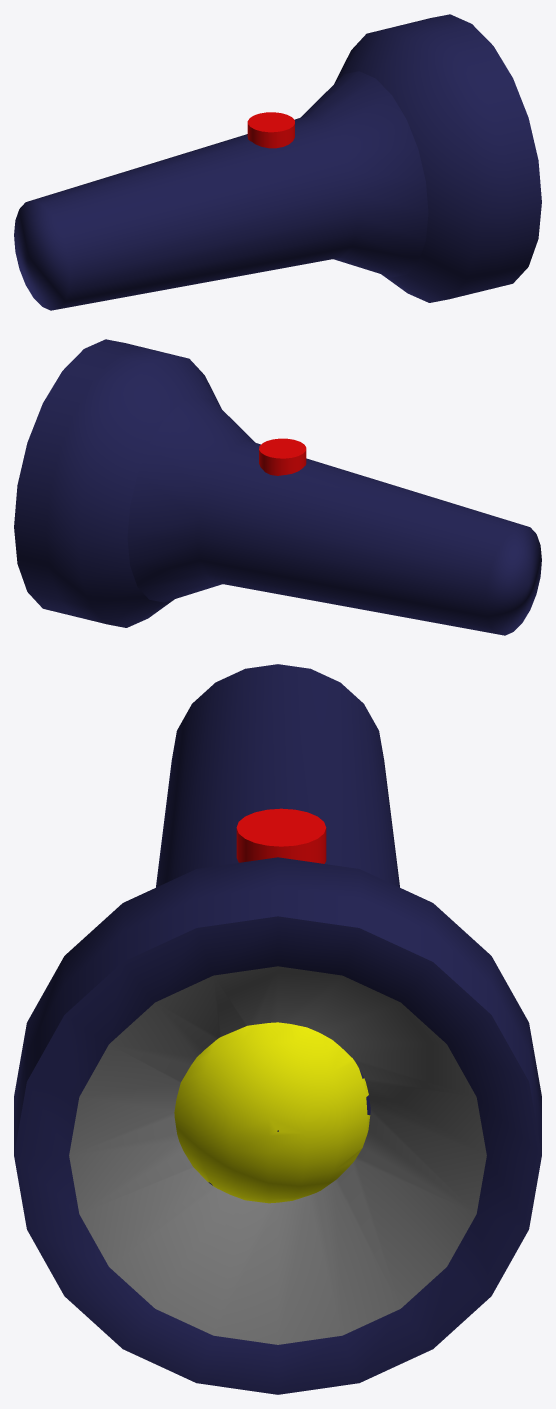
The model's file is linterna.fbx.
The picture shows the model from 3 angles, top to bottom: view 1: azimuth 30°, elevation 25°; view 2: azimuth 150°, elevation 25°; view 3: azimuth 270°, elevation 25°; orthographic projection. The views are drawn at different scales.
Parts seen in each view (by area): view 1: pCylinder27; view 2: pCylinder27; view 3: pCylinder27.
Boxes of the visible parts, box(x1,y1,x2,y2) form: pCylinder27: box(14, 14, 541, 310); pCylinder27: box(14, 339, 541, 635); pCylinder27: box(14, 664, 541, 1394).
Bounding box in the file's own units: 2.05 × 1.12 × 1.12.
